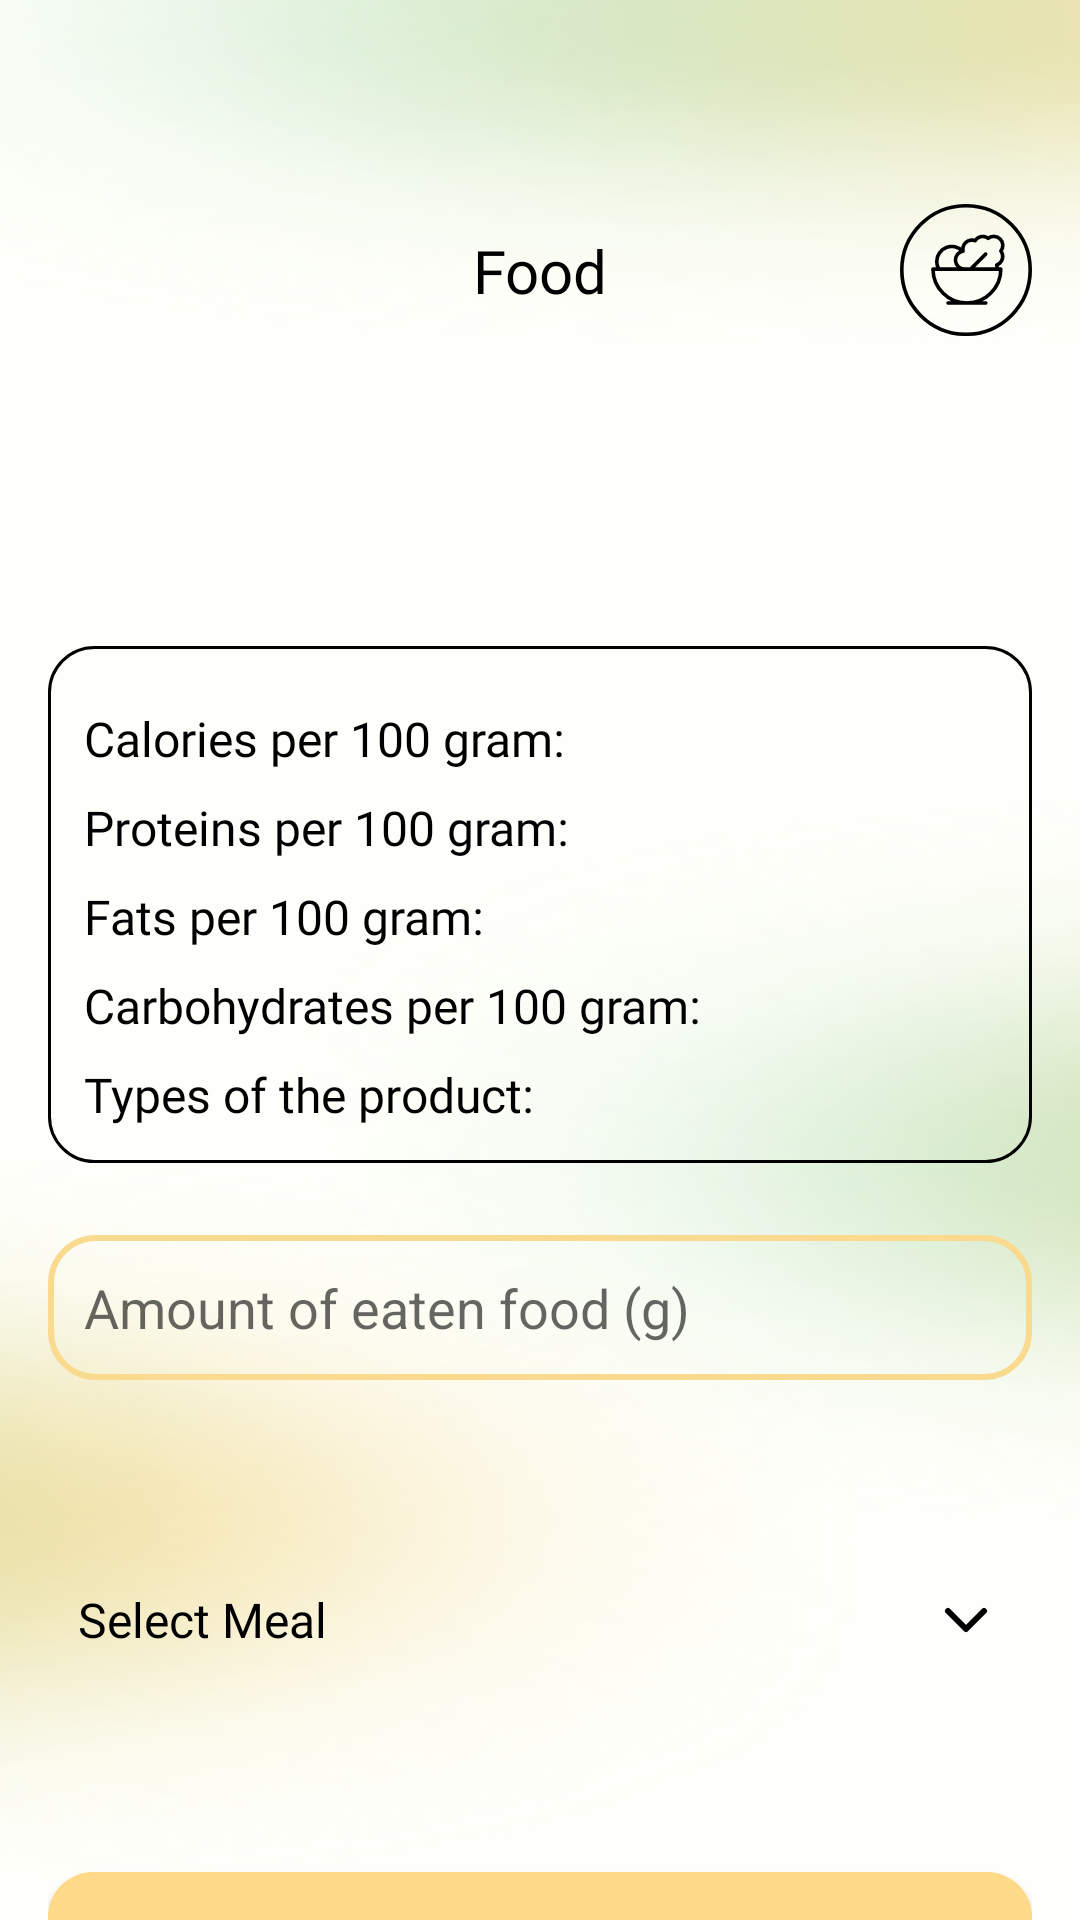

Icon bounding boxes for this 1080*1920 phone screenshot, format (x1, y1, x2, y2):
arrow down: (945, 1608, 987, 1632)
